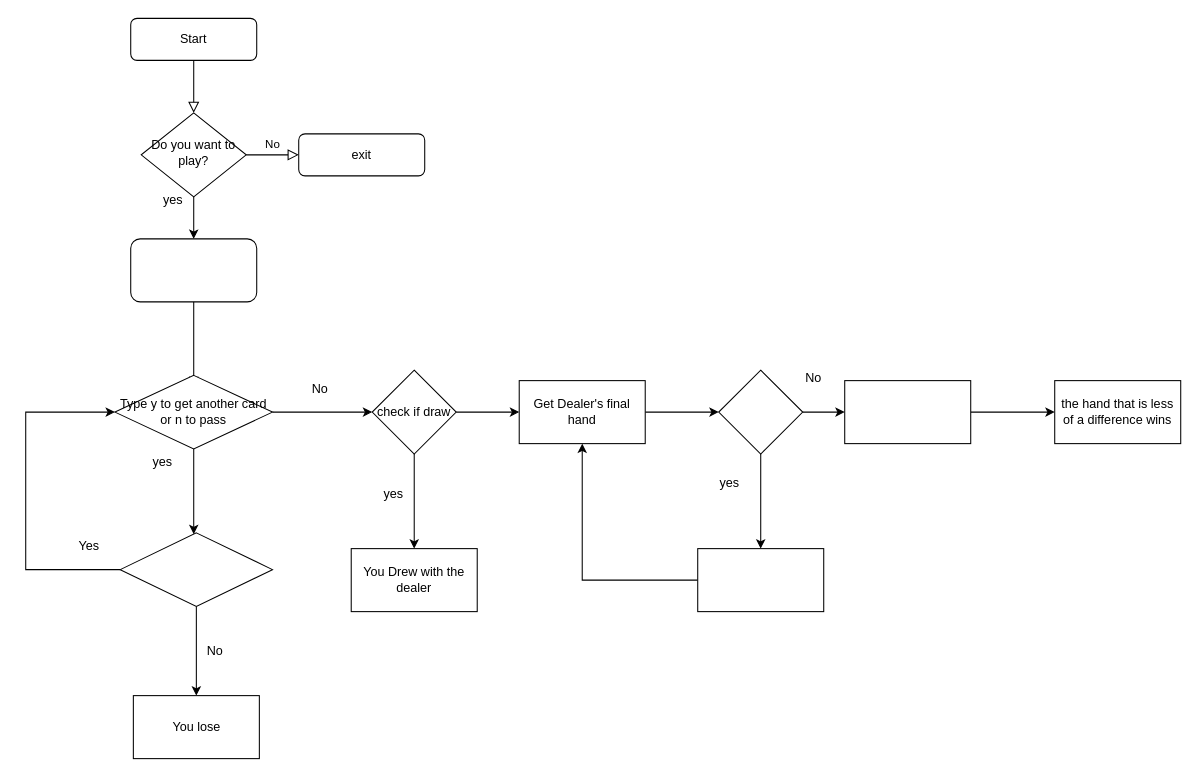
Image size: 1199x777. Some labels were removed from this diagram. Here are the shapes that lost their labels. From the top down, the box of each, then its label:
(130, 238, 257, 302): print blackjack logo /first hands
(718, 369, 803, 454): is dealer's hand < 17
(844, 380, 971, 444): Subtract hands from 21
(119, 532, 272, 606): Add random card to my score. check if < 21?
(697, 548, 824, 612): Add random card to dealer's hand
